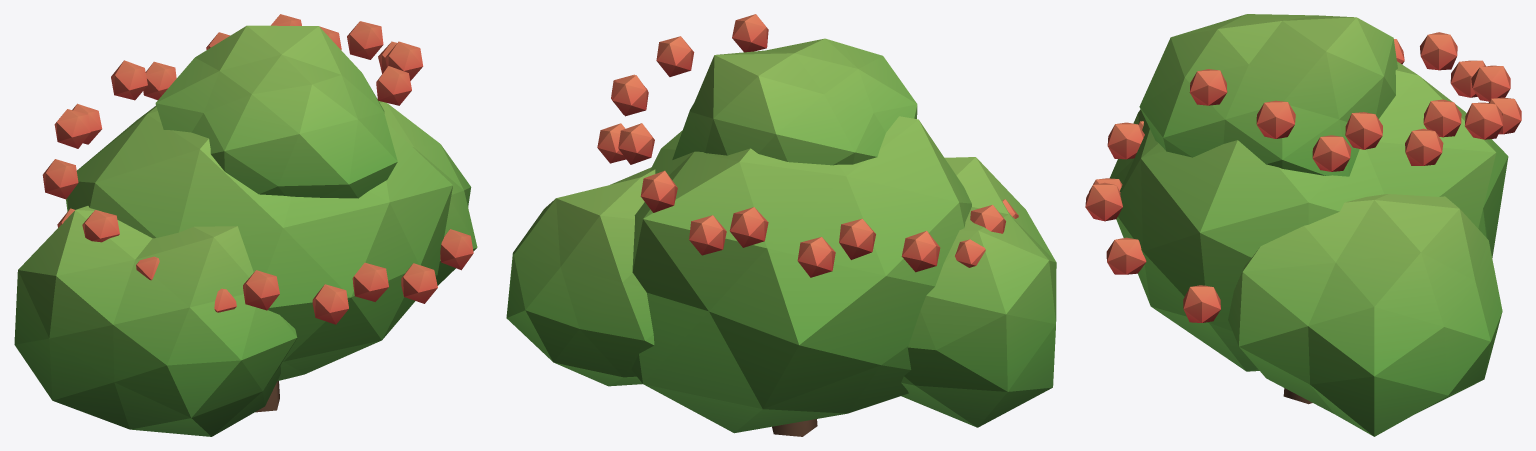
File: res_berry_red.glb
3 views of the same model, side by side, from view 1: azimuth 30°, elevation 25°; view 2: azimuth 150°, elevation 25°; view 3: azimuth 270°, elevation 25° (orthographic). The views are drawn at different scales.
Visible parts, largest first — view 1: res_berry_red; view 2: res_berry_red; view 3: res_berry_red.
Part boxes in pixels (x1,y1,x2,y2): res_berry_red: (14, 14, 477, 436); res_berry_red: (506, 14, 1056, 436); res_berry_red: (1085, 14, 1521, 436).
Bounding box in the file's own units: 4.46 × 3.2 × 3.32.
1 material, 1 textured.
